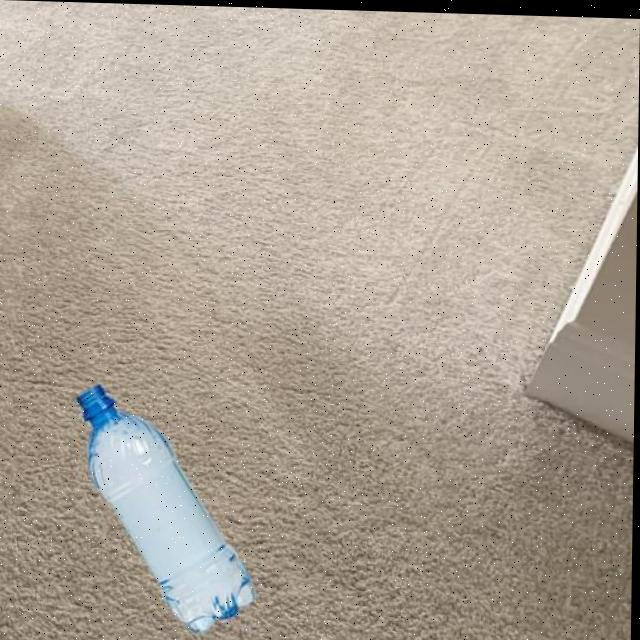bottle: (73, 380, 261, 634)
